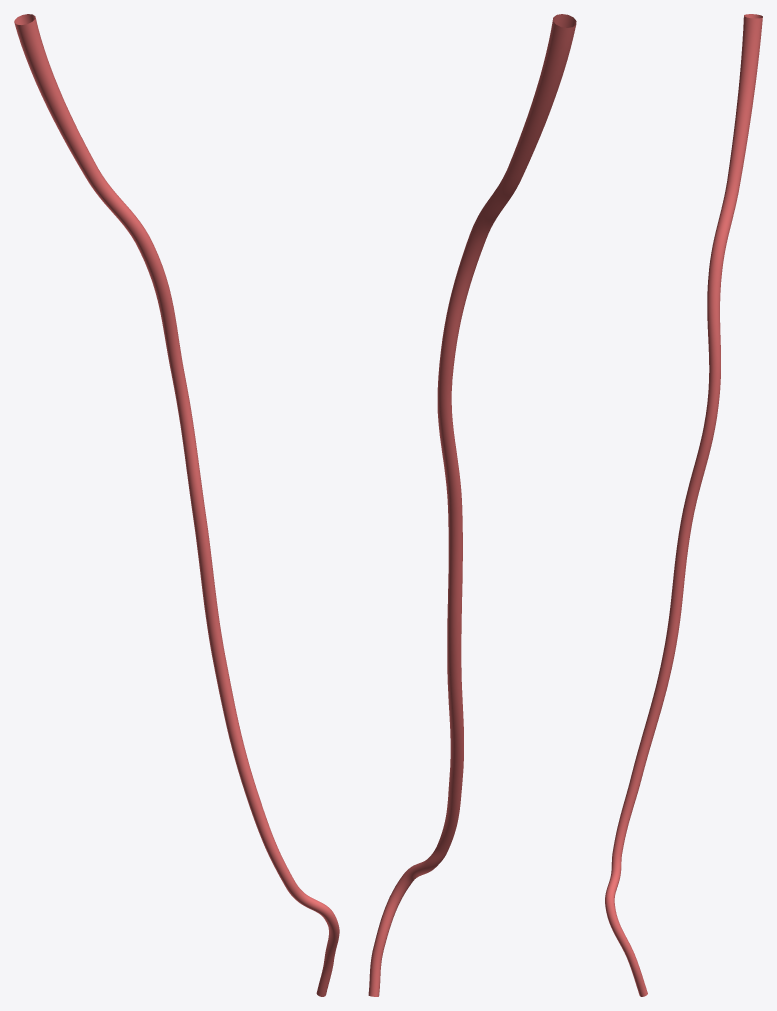
File: Radial_artery.l_BezierCurve.201.glb
The picture shows the model from 3 angles, left to right: view 1: azimuth 30°, elevation 25°; view 2: azimuth 150°, elevation 25°; view 3: azimuth 270°, elevation 25°; orthographic projection. The views are drawn at different scales.
Visible parts, largest first — view 1: Radial_artery.l_BezierCurve.201; view 2: Radial_artery.l_BezierCurve.201; view 3: Radial_artery.l_BezierCurve.201.
Part boxes in pixels (left/top/right/bottom): Radial_artery.l_BezierCurve.201: left=14, top=14, right=339, bottom=996; Radial_artery.l_BezierCurve.201: left=368, top=14, right=576, bottom=996; Radial_artery.l_BezierCurve.201: left=605, top=14, right=762, bottom=996.
Size of the model in its own units: 0.0652 by 0.2466 by 0.0401.
